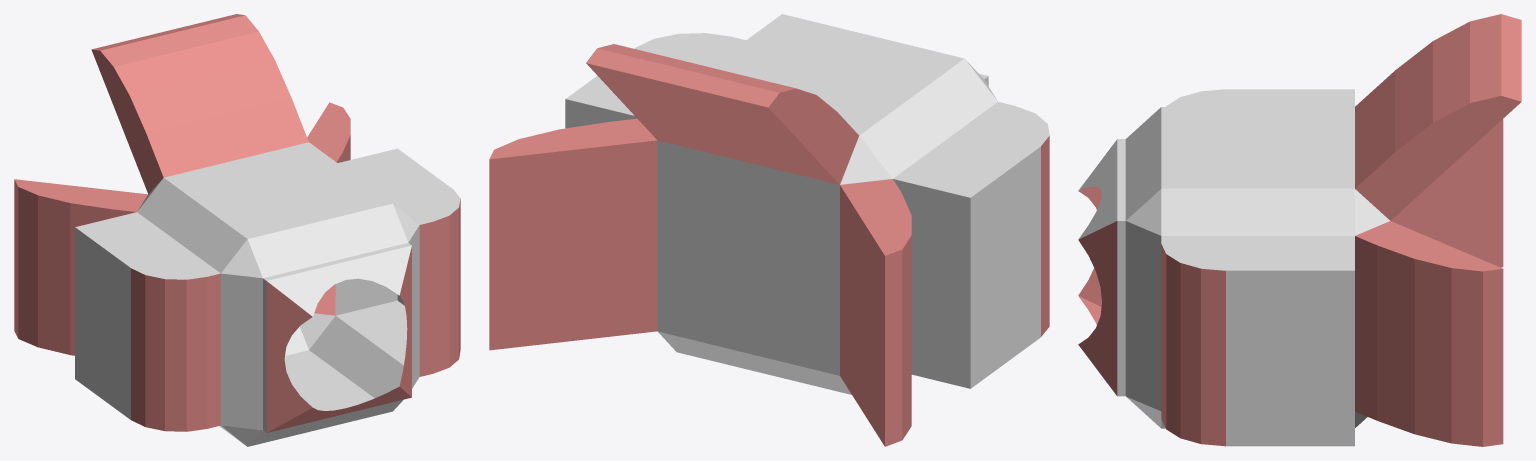
The model's file is delta.glb.
The picture shows the model from 3 angles, left to right: view 1: azimuth 30°, elevation 25°; view 2: azimuth 150°, elevation 25°; view 3: azimuth 270°, elevation 25°; orthographic projection. The views are drawn at different scales.
Parts seen in each view (by area): view 1: Cube; view 2: Cube; view 3: Cube.
Boxes of the visible parts, box(x1,y1,x2,y2) form: Cube: box(14, 14, 460, 446); Cube: box(489, 14, 1049, 446); Cube: box(1078, 14, 1521, 446).
Bounding box in the file's own units: 3.27 × 2.77 × 3.35.
